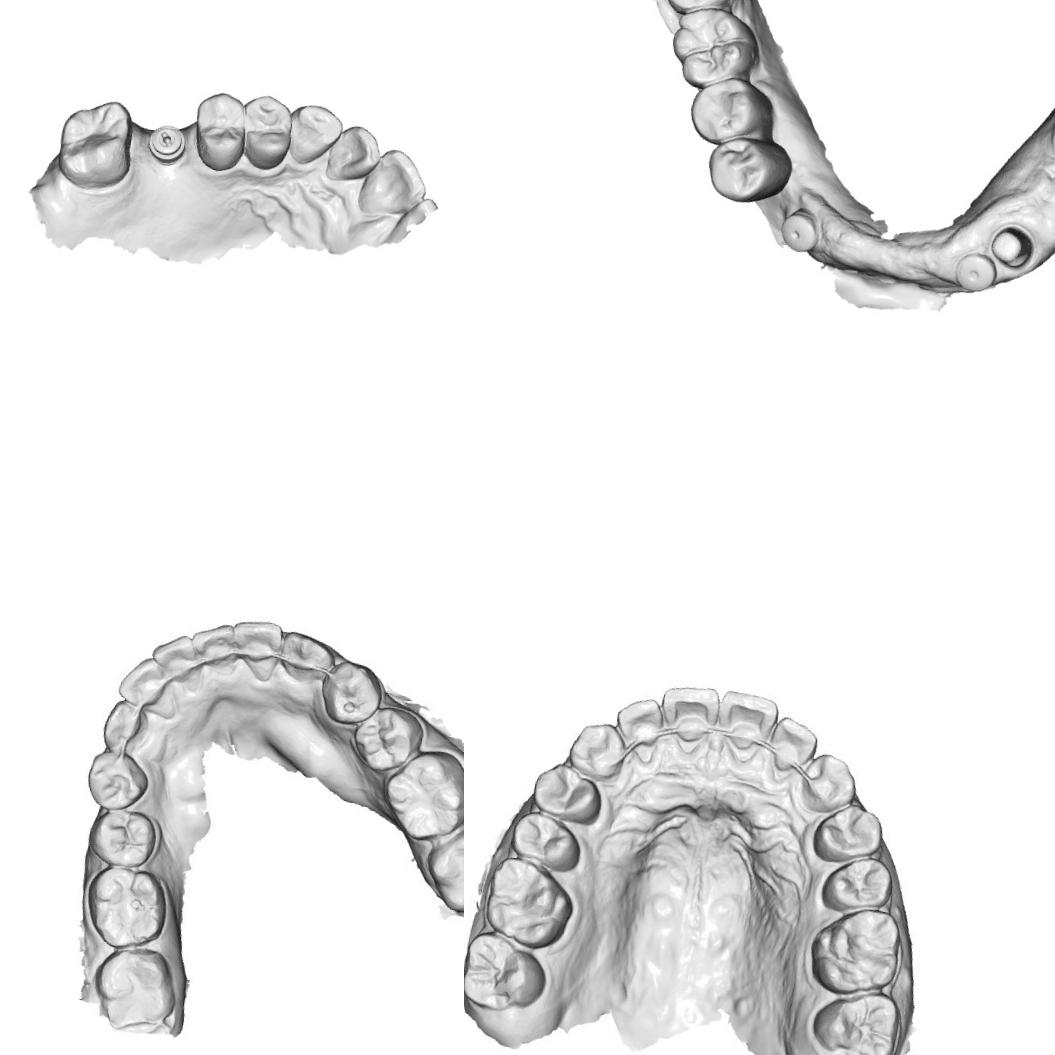abutment: (986, 219, 1037, 273)
canine: (284, 100, 346, 170), (96, 695, 163, 757), (277, 624, 333, 690), (798, 752, 858, 812), (566, 720, 626, 778)
implant: (776, 206, 820, 258), (952, 249, 998, 298)
implant_minus: (144, 120, 191, 168)
incisor: (355, 144, 432, 224), (713, 686, 778, 755), (323, 120, 386, 188), (117, 654, 179, 718), (660, 683, 720, 744), (230, 617, 286, 682), (766, 716, 822, 776), (190, 622, 242, 683), (614, 693, 668, 749), (149, 632, 201, 682)
molar: (480, 854, 580, 956), (809, 905, 908, 1005), (664, 2, 766, 98), (52, 92, 140, 196), (377, 747, 464, 849), (78, 859, 170, 953), (91, 944, 181, 1036), (808, 984, 909, 1055), (464, 931, 546, 1014), (418, 821, 464, 919), (656, 0, 742, 23)
premolar: (683, 72, 776, 152), (703, 132, 793, 212), (344, 701, 424, 780), (508, 810, 592, 880), (187, 88, 252, 175), (83, 802, 160, 871), (234, 90, 297, 174), (316, 656, 388, 728), (80, 744, 154, 814), (818, 851, 896, 915), (532, 766, 610, 829), (812, 802, 884, 866)
